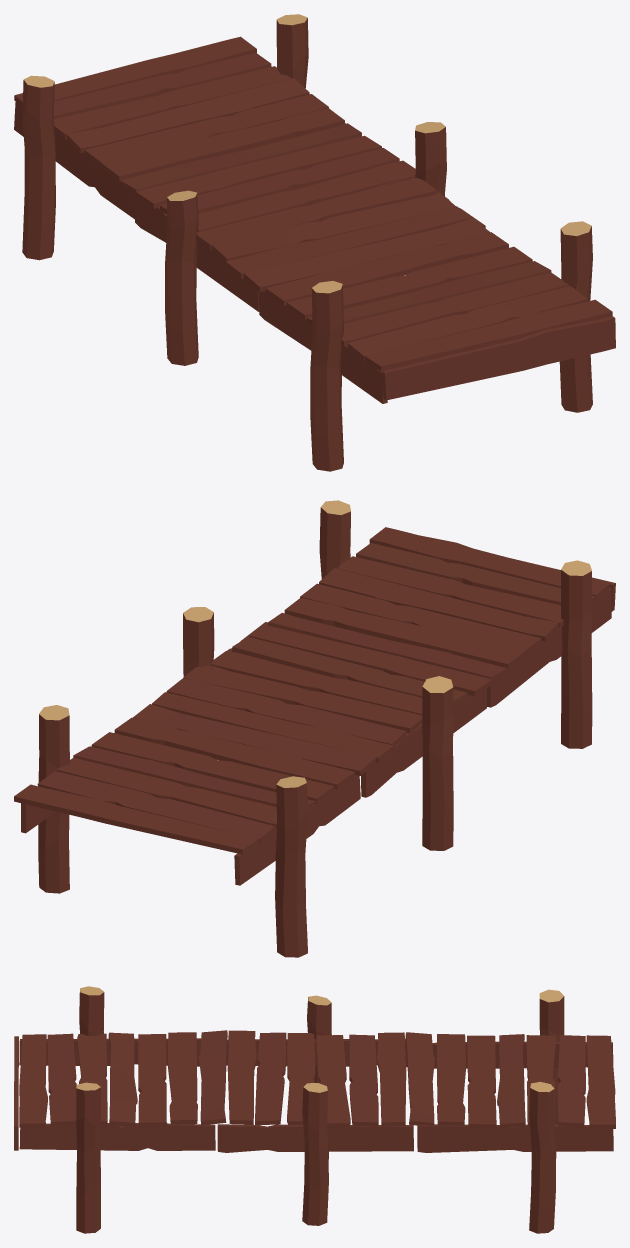
File: dock_long_no_rope.glb
3 renders of one model, top to bottom at view 1: azimuth 30°, elevation 25°; view 2: azimuth 150°, elevation 25°; view 3: azimuth 270°, elevation 25°, orthographic. The views are drawn at different scales.
Parts seen in each view (by area): view 1: Dock_Long_NoRope; view 2: Dock_Long_NoRope; view 3: Dock_Long_NoRope.
Part boxes in pixels (x1=…): Dock_Long_NoRope: x1=14, y1=14, x2=615, y2=471; Dock_Long_NoRope: x1=14, y1=500, x2=615, y2=957; Dock_Long_NoRope: x1=14, y1=986, x2=615, y2=1233.
Bounding box in the file's own units: 3.01 × 1.85 × 7.09.
